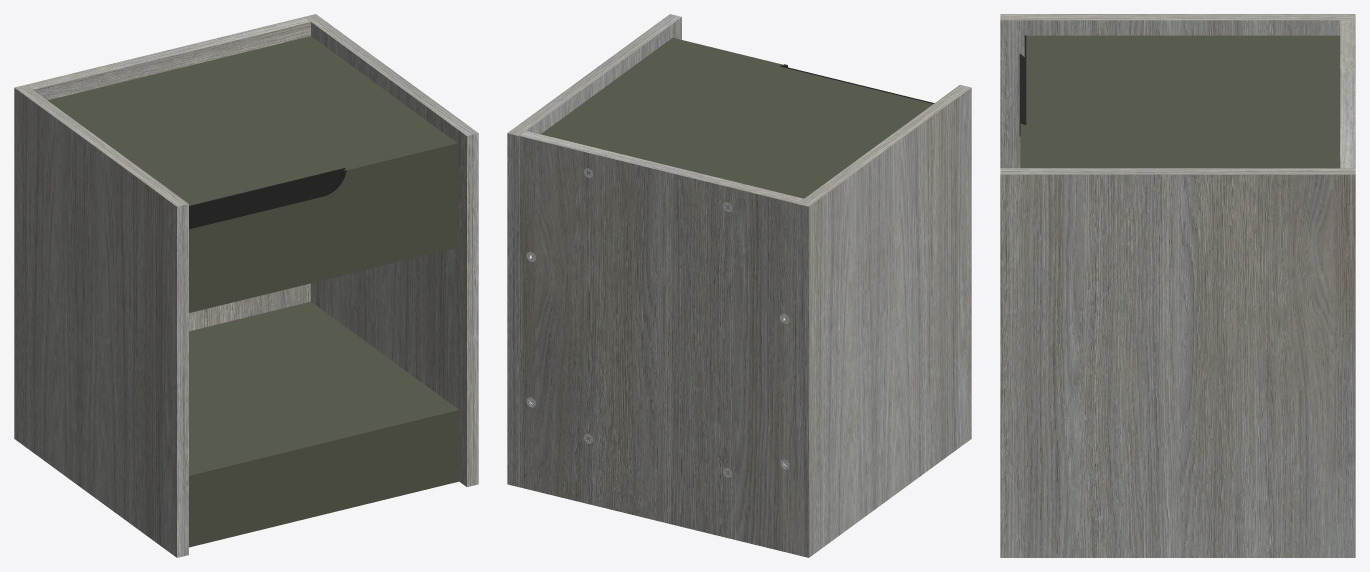
The picture shows the model from 3 angles, left to right: view 1: azimuth 30°, elevation 25°; view 2: azimuth 150°, elevation 25°; view 3: azimuth 270°, elevation 25°; orthographic projection. The views are drawn at different scales.
Visible parts, largest first — view 1: group_0.923, Plane, group_2.005; view 2: Plane, group_0.923; view 3: Plane, group_0.923, group_2.005.
Part boxes in pixels (x1,y1,x2,y2): group_0.923: (48,36,458,547); Plane: (14,14,478,557); group_2.005: (189,168,346,229); Plane: (507,14,971,557); group_0.923: (541,37,932,198); Plane: (1000,14,1355,557); group_0.923: (1020,35,1340,168); group_2.005: (1019,35,1026,136).
Size of what is drawn, in the model's own units: 0.4494 by 0.5 by 0.4202.
Materials: 13 (2 with a texture image).
